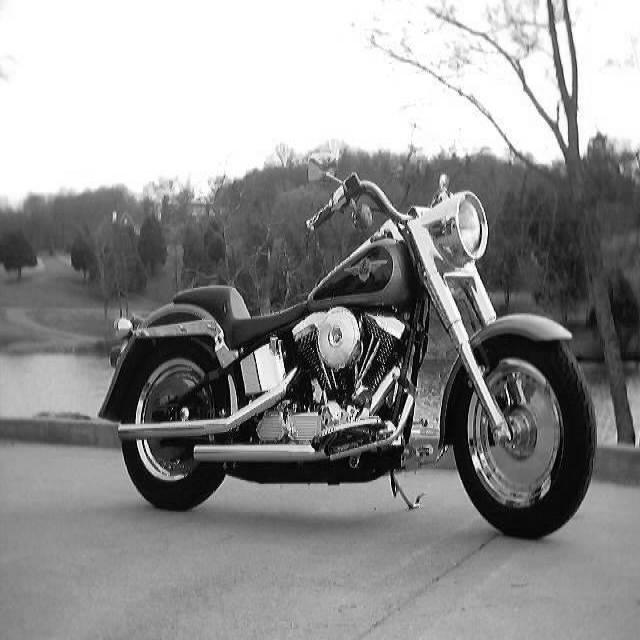Motorcycle: (99, 175, 597, 538)
Tree: (372, 1, 637, 444)
